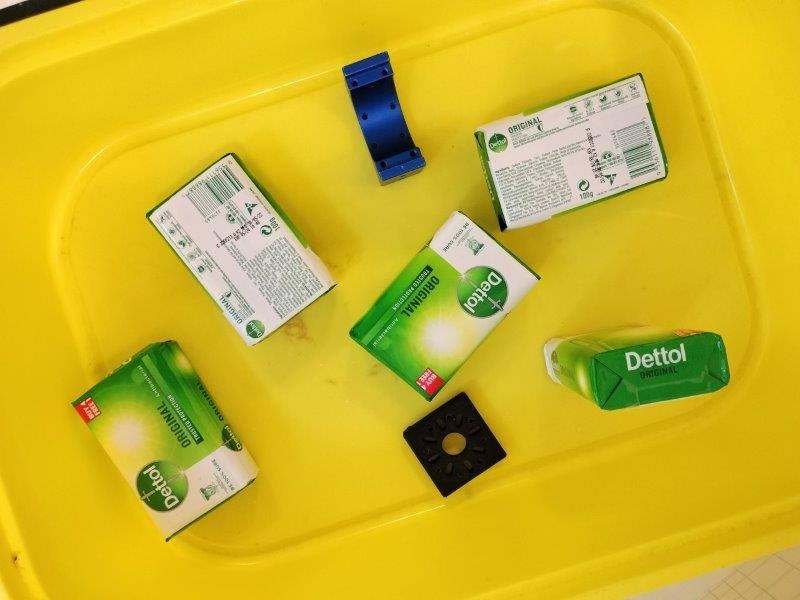Dettol: (147, 151, 337, 346), (349, 211, 541, 402), (72, 342, 258, 539), (476, 73, 668, 230), (544, 325, 733, 412)
